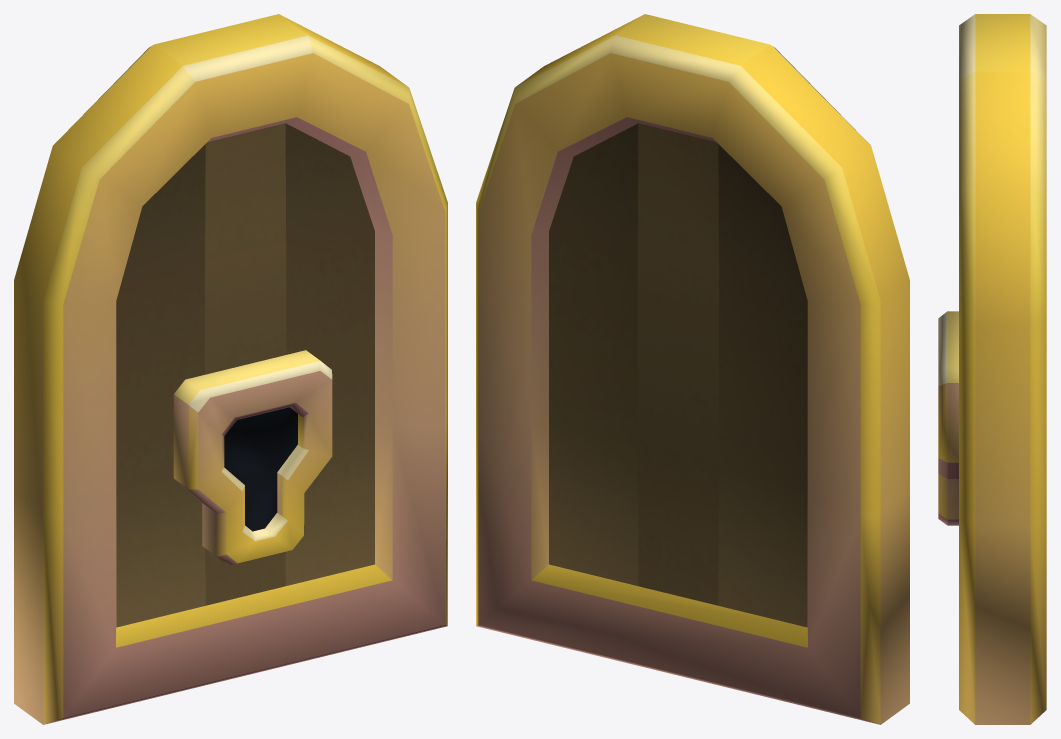
File: door.fbx
3 views of the same model, side by side, from view 1: azimuth 30°, elevation 25°; view 2: azimuth 150°, elevation 25°; view 3: azimuth 270°, elevation 25° (orthographic). The views are drawn at different scales.
Parts seen in each view (by area): view 1: door; view 2: door; view 3: door.
Boxes of the visible parts, <box> form: door: <box>14,14,447,724</box>; door: <box>476,14,909,724</box>; door: <box>938,14,1046,724</box>.
Bounding box in the file's own units: 200 × 295 × 49.19.
